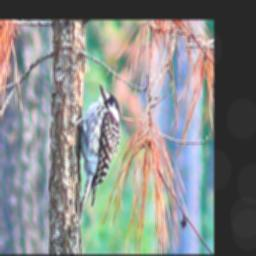Woodpecker: (63, 77, 128, 222)
